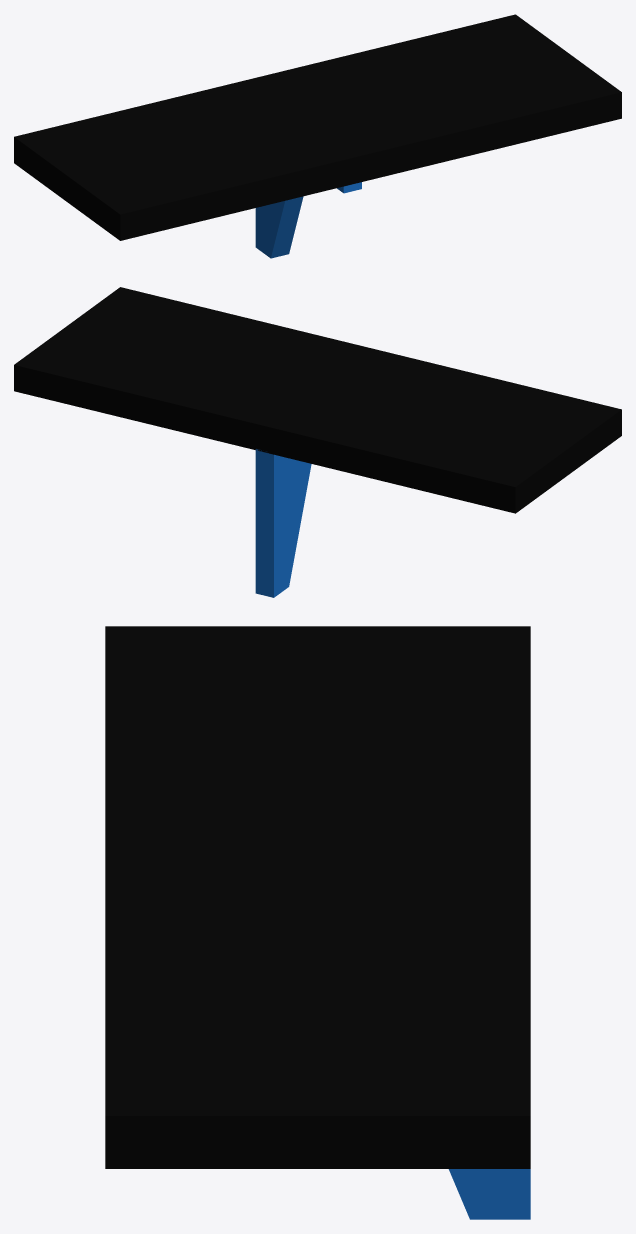
The model's file is SM_shelf_1.fbx.
3 renders of one model, top to bottom at view 1: azimuth 30°, elevation 25°; view 2: azimuth 150°, elevation 25°; view 3: azimuth 270°, elevation 25°, orthographic. The views are drawn at different scales.
Parts seen in each view (by area): view 1: Cube_43; view 2: Cube_43; view 3: Cube_43.
Boxes of the visible parts, <box> form: Cube_43: <box>14,14,621,258</box>; Cube_43: <box>14,287,621,597</box>; Cube_43: <box>105,626,530,1219</box>.
Size of the model in its own units: 100 by 32.31 by 36.71.
